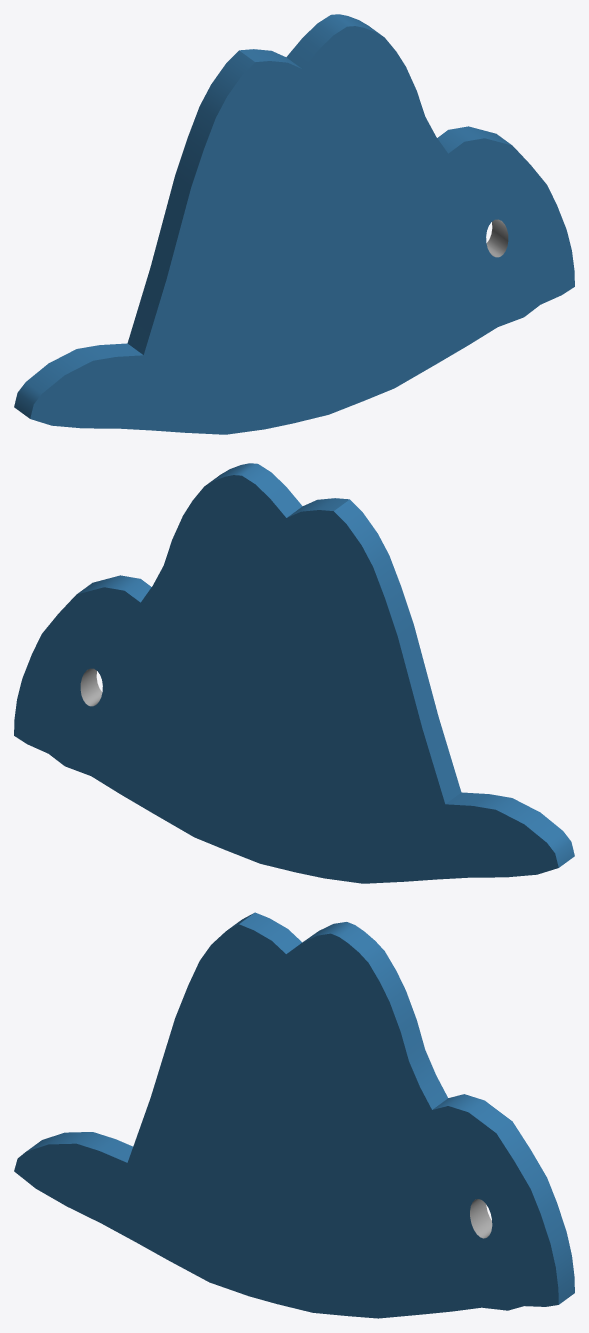
File: weiter.fbx
3 views of the same model, one above another, from view 1: azimuth 30°, elevation 25°; view 2: azimuth 150°, elevation 25°; view 3: azimuth 330°, elevation 25° (orthographic).
Visible parts, largest first — view 1: polySurface2; view 2: polySurface2; view 3: polySurface2.
Boxes of the visible parts, x1,y1,x2,y2 form: polySurface2: [14, 14, 574, 434]; polySurface2: [14, 463, 574, 883]; polySurface2: [14, 912, 574, 1318].
Bounding box in the file's own units: 3.89 × 2.62 × 0.2.
